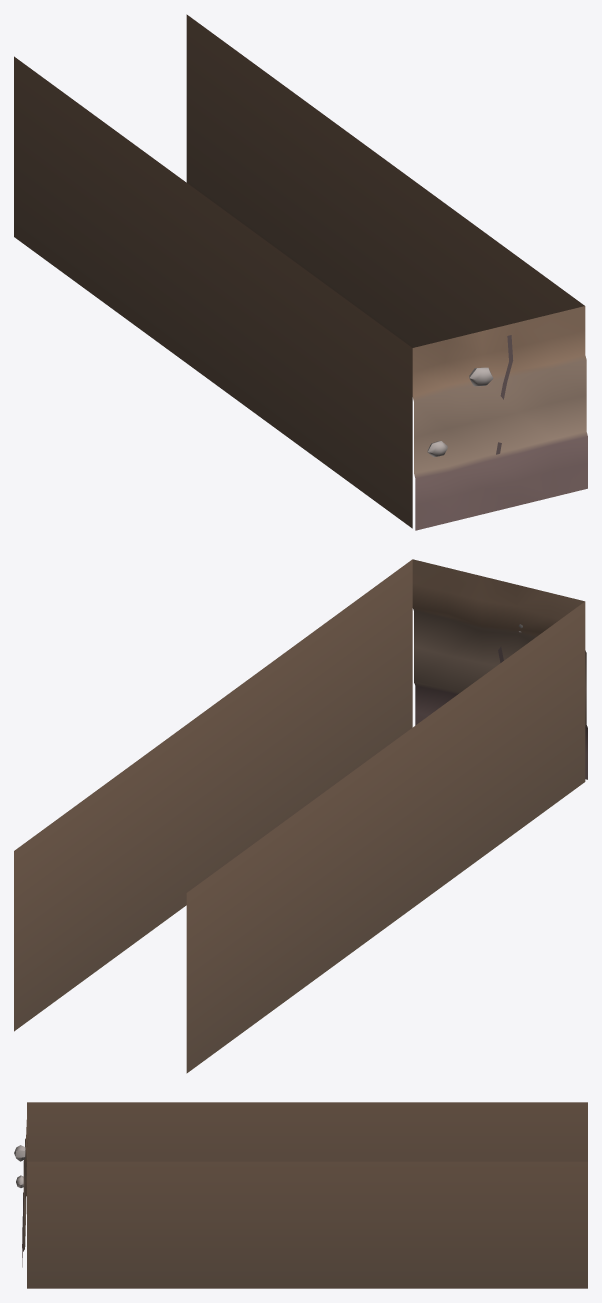
The model's file is groundlite_deep_3.glb.
The picture shows the model from 3 angles, top to bottom: view 1: azimuth 30°, elevation 25°; view 2: azimuth 150°, elevation 25°; view 3: azimuth 270°, elevation 25°; orthographic projection. The views are drawn at different scales.
Parts seen in each view (by area): view 1: groundlite_deep_3; view 2: groundlite_deep_3; view 3: groundlite_deep_3.
Part boxes in pixels (<box>): groundlite_deep_3: <box>14,14,587,530</box>; groundlite_deep_3: <box>14,559,587,1073</box>; groundlite_deep_3: <box>14,1102,587,1288</box>.
Bounding box in the file's own units: 1 × 1 × 4.09.
